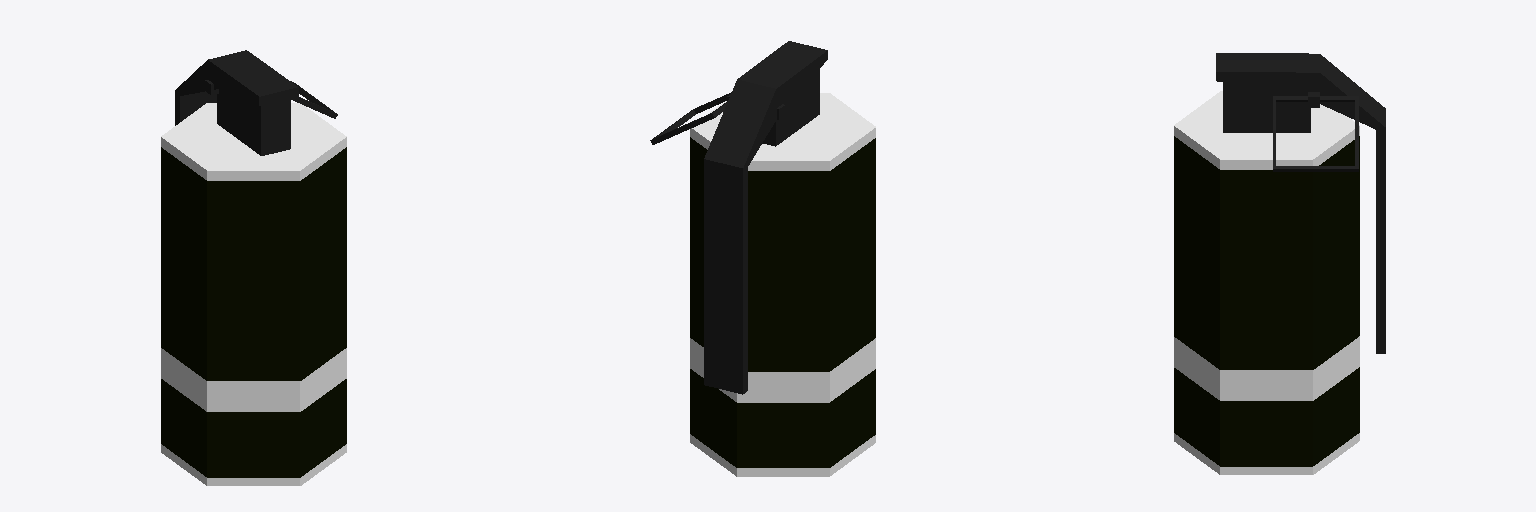
File: Grenade_Smoke.obj
The picture shows the model from 3 angles: view 1: azimuth 30°, elevation 25°; view 2: azimuth 150°, elevation 25°; view 3: azimuth 270°, elevation 25°; orthographic projection.
Visible parts, largest first — view 1: Grenade_Smoke_Cube.014; view 2: Grenade_Smoke_Cube.014; view 3: Grenade_Smoke_Cube.014.
Part boxes in pixels (bbox=[...]): Grenade_Smoke_Cube.014: bbox=[161, 50, 346, 485]; Grenade_Smoke_Cube.014: bbox=[650, 41, 875, 476]; Grenade_Smoke_Cube.014: bbox=[1174, 53, 1385, 474].
Size of the model in its own units: 0.0541 by 0.1246 by 0.0634.